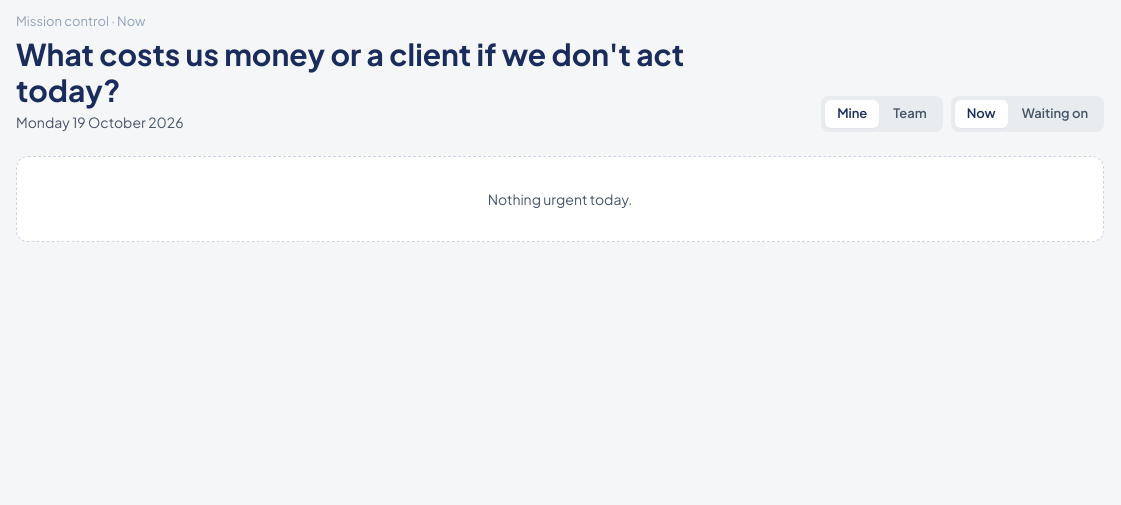
Scenario: MissionControlView — waiting on › shows one card per who, with the workspace, since, follow-up and what it blocks
What coordinates should you click on to do the following:
click the button "Waiting on"
I would click on:
 (1055, 114)
Its box is [1010,100,1100,128].
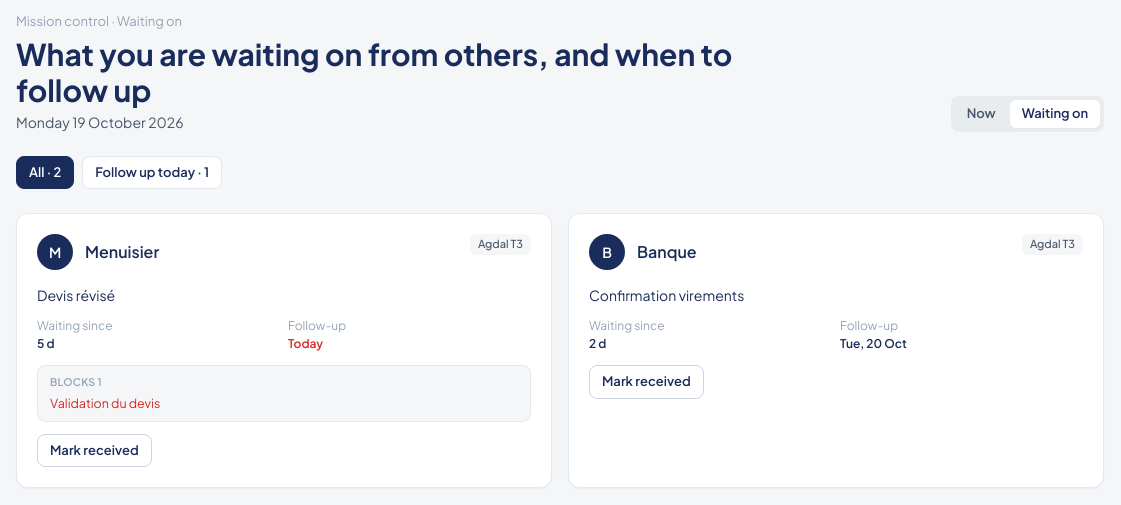
expect the text "Agdal T3" in the row of "Menuisier" is shown: met, box [478,237,523,250]
expect the text "Waiting since" below "Menuisier" is shown: met, box [37,318,112,333]
expect the text "5 d" is shown: met, box [37,336,54,351]
